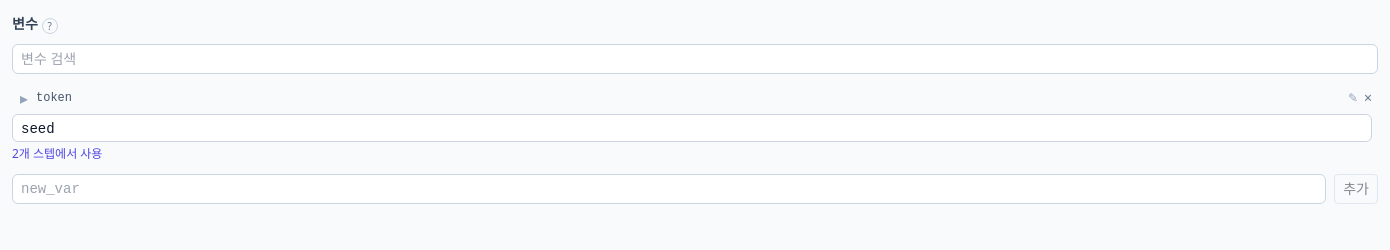
Test case: VariablesPanel — unified rows › nav count opens a usage popover listing refIds in document order and jumps without cycling/closing
Click the button "2개 스텝에서 사용" at (57, 154), box x1=12 y1=146 x2=1372 y2=162
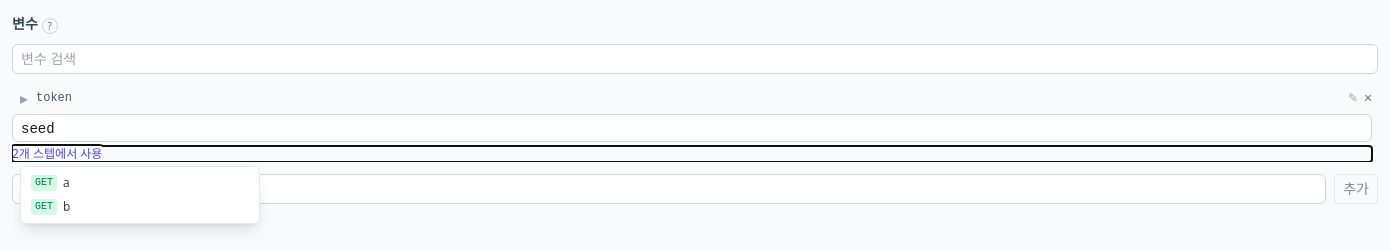
Now the number of menu items is 2
Click the menu item "GET a" at (140, 183), box x1=25 y1=171 x2=255 y2=195
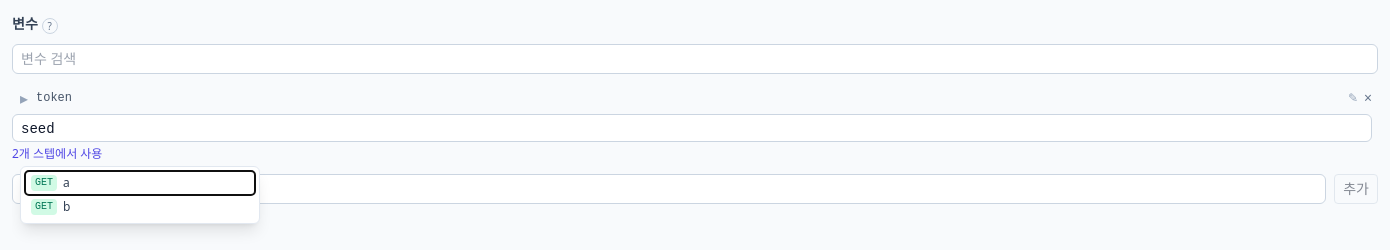
Now the menu is shown, box x1=20 y1=166 x2=260 y2=224
Click the menu item "GET b" at (140, 207), box x1=25 y1=195 x2=255 y2=219
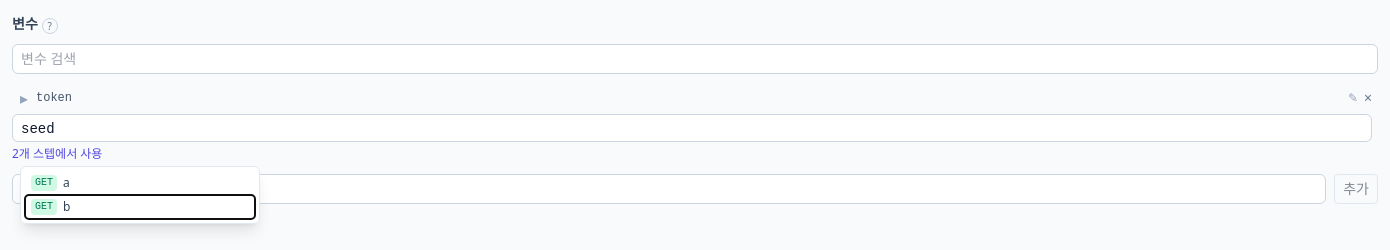
Press Escape
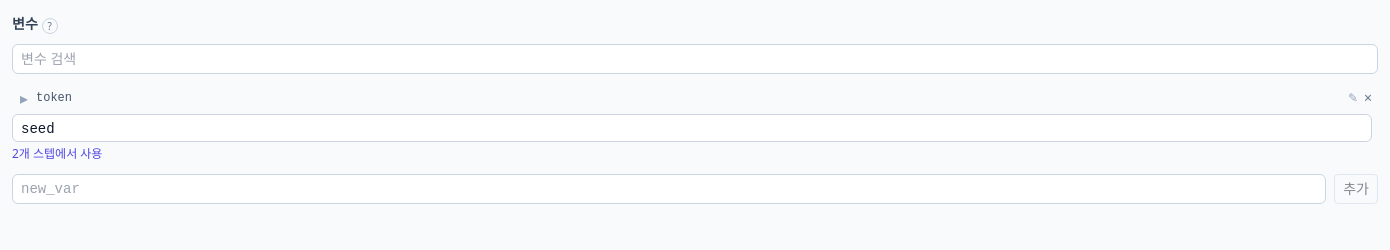
Now the menu is gone
